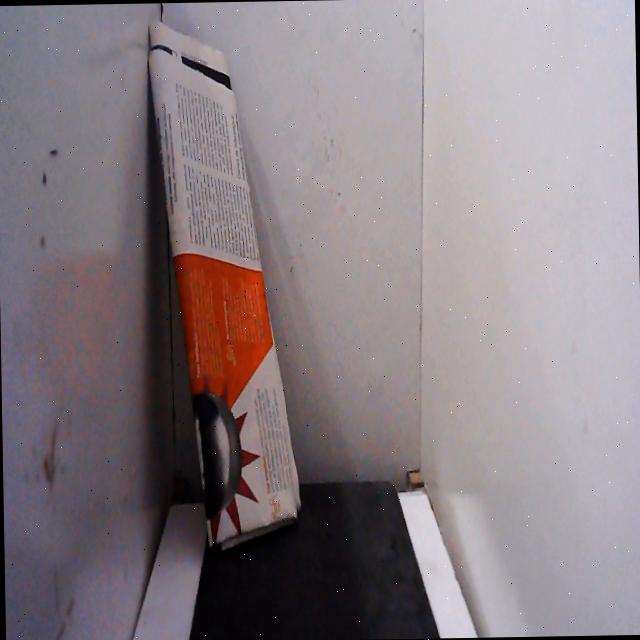papel: (142, 10, 306, 560)
